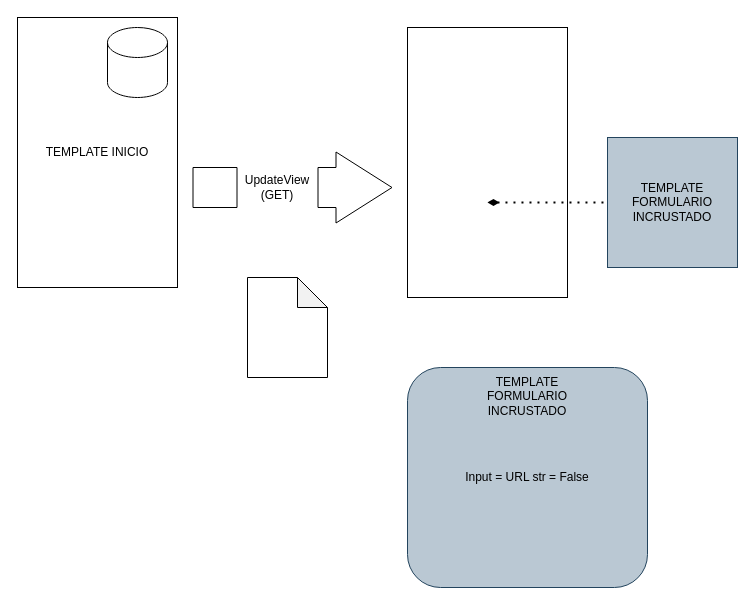
The diagram is 755 pixels wide and 605 high, and some of its shapes have lost their labels. The shapes that lost their labels are listed below. From the top down, each one's centre as x and y in pixels, then its label:
point 137,62: objeto.1
point 487,162: TEMPLATE DE EDICION
